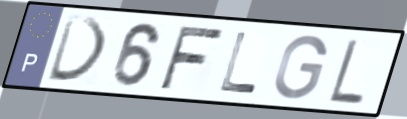6: (110, 21, 164, 89)
D: (44, 13, 111, 85)
F: (156, 23, 228, 91)
G: (270, 33, 330, 102)
L: (216, 30, 261, 96), (326, 36, 366, 107)
